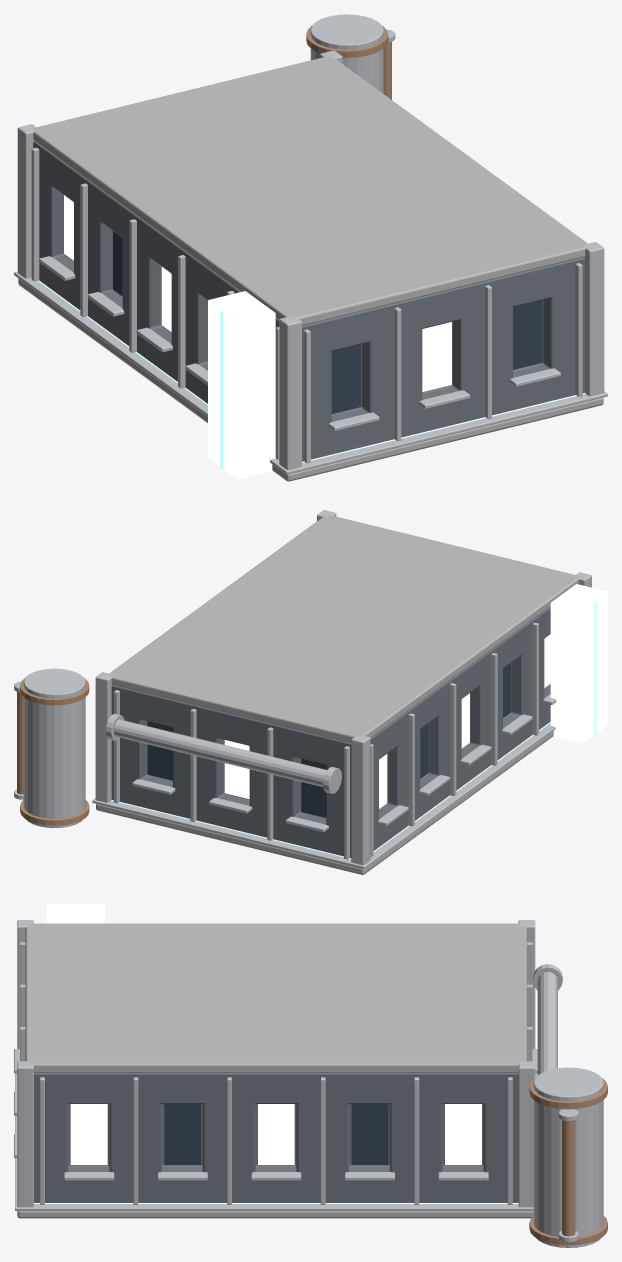
The model's file is svc_4x6.glb.
3 renders of one model, top to bottom at view 1: azimuth 30°, elevation 25°; view 2: azimuth 150°, elevation 25°; view 3: azimuth 270°, elevation 25°, orthographic. The views are drawn at different scales.
Visible parts, largest first — view 1: int_ceiling, ext_wall, ext_frames, ext_lift, int_columns, int_slab_edge, ext_panes_dark, int_slab, ext_svc_tower, ext_panes_lit, int_grid, ext_lift_glow (+1 smaller); view 2: int_ceiling, ext_wall, ext_svc_tower, ext_frames, ext_lift, int_columns, ext_duct, int_slab_edge, int_slab, ext_panes_dark, ext_panes_lit, ext_svc_pipe (+4 smaller); view 3: int_ceiling, ext_wall, ext_svc_tower, ext_frames, ext_panes_lit, int_columns, ext_panes_dark, int_slab, int_slab_edge, ext_duct, ext_svc_pipe, ext_lift (+2 smaller).
Part boxes in pixels (<box>): int_ceiling: <box>32,56,587,325</box>; ext_wall: <box>33,141,585,461</box>; ext_frames: <box>31,147,582,462</box>; ext_lift: <box>208,291,275,479</box>; int_columns: <box>17,50,604,469</box>; int_slab_edge: <box>14,271,607,474</box>; ext_panes_dark: <box>113,231,542,413</box>; int_slab: <box>18,278,603,481</box>; ext_svc_tower: <box>310,14,383,93</box>; ext_panes_lit: <box>64,195,451,391</box>; int_grid: <box>37,280,585,462</box>; ext_lift_glow: <box>220,310,224,470</box>; int_ceiling: <box>107,515,579,742</box>; ext_wall: <box>111,607,550,857</box>; ext_svc_tower: <box>23,668,85,827</box>; ext_frames: <box>113,622,556,859</box>; ext_lift: <box>550,584,607,743</box>; int_columns: <box>95,510,591,865</box>; ext_duct: <box>113,719,326,786</box>; int_slab_edge: <box>92,723,555,868</box>; int_slab: <box>96,731,553,874</box>; ext_panes_dark: <box>147,663,511,817</box>; ext_panes_lit: <box>224,634,550,808</box>; ext_svc_pipe: <box>17,692,23,794</box>; int_ceiling: <box>25,923,526,1072</box>; ext_wall: <box>34,1072,518,1202</box>; ext_svc_tower: <box>533,1067,603,1247</box>; ext_frames: <box>14,942,537,1204</box>; ext_panes_lit: <box>70,1104,481,1164</box>; int_columns: <box>17,920,535,1207</box>; ext_panes_dark: <box>164,1104,388,1164</box>; int_slab: <box>17,1211,533,1218</box>; int_slab_edge: <box>15,1073,537,1210</box>; ext_duct: <box>537,972,557,1075</box>; ext_svc_pipe: <box>562,1120,575,1236</box>; ext_lift: <box>46,904,104,923</box>.
Bounding box in the file's own units: 5.69 × 2 × 7.11.
